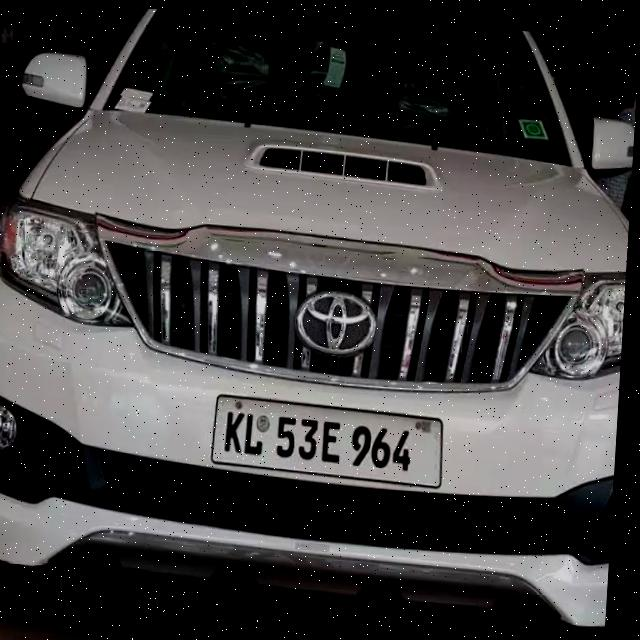plate: (215, 389, 451, 482)
